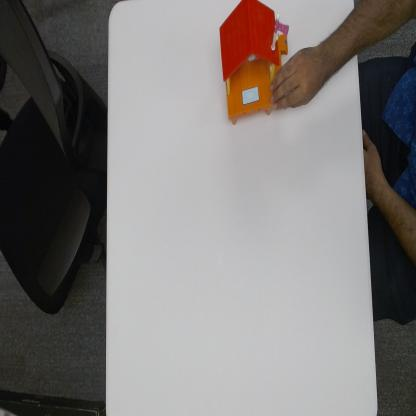Arm: (324, 7, 358, 79)
Hand: (269, 44, 327, 116)
House: (220, 0, 289, 115)
